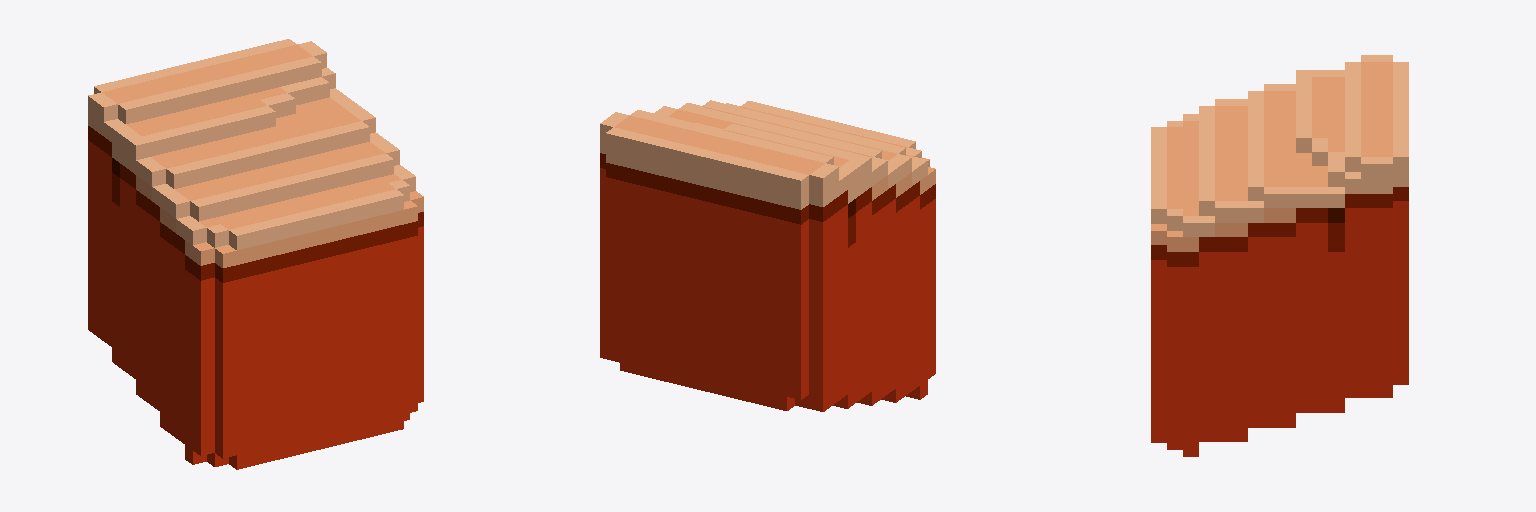
3 views of the same model, side by side, from view 1: azimuth 30°, elevation 25°; view 2: azimuth 150°, elevation 25°; view 3: azimuth 270°, elevation 25° (orthographic).
Visible parts, largest first — view 1: object 1; view 2: object 1; view 3: object 1.
Part boxes in pixels (bbox=[...]): object 1: bbox=[88, 39, 423, 469]; object 1: bbox=[600, 100, 935, 411]; object 1: bbox=[1151, 55, 1408, 456].
Size of the model in its own units: 1.6 by 2 by 1.6.
1 materials, 1 textured.